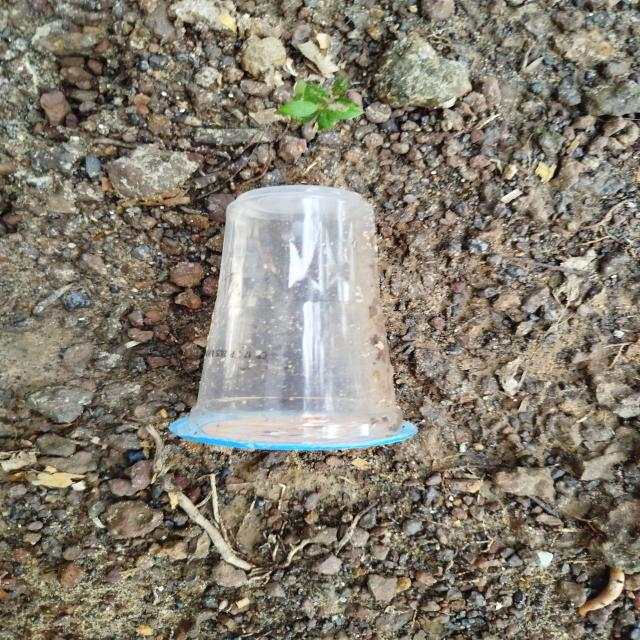plastic: (149, 181, 474, 470)
